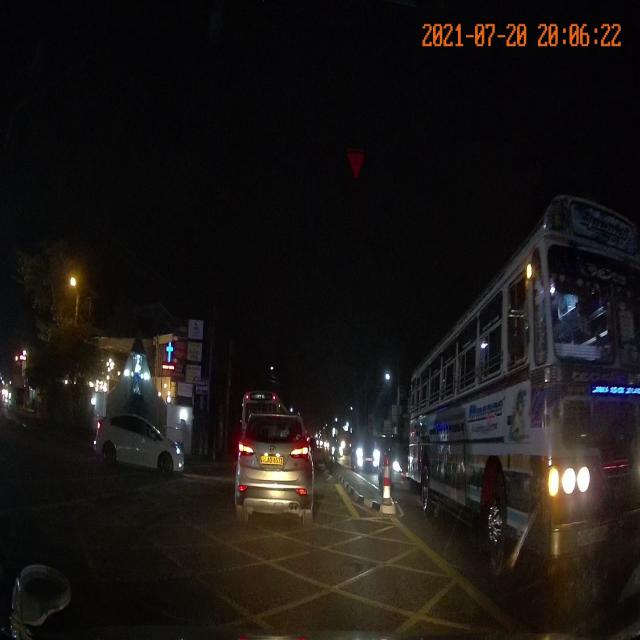Jeltaya razmetka: (150, 505, 538, 636)
